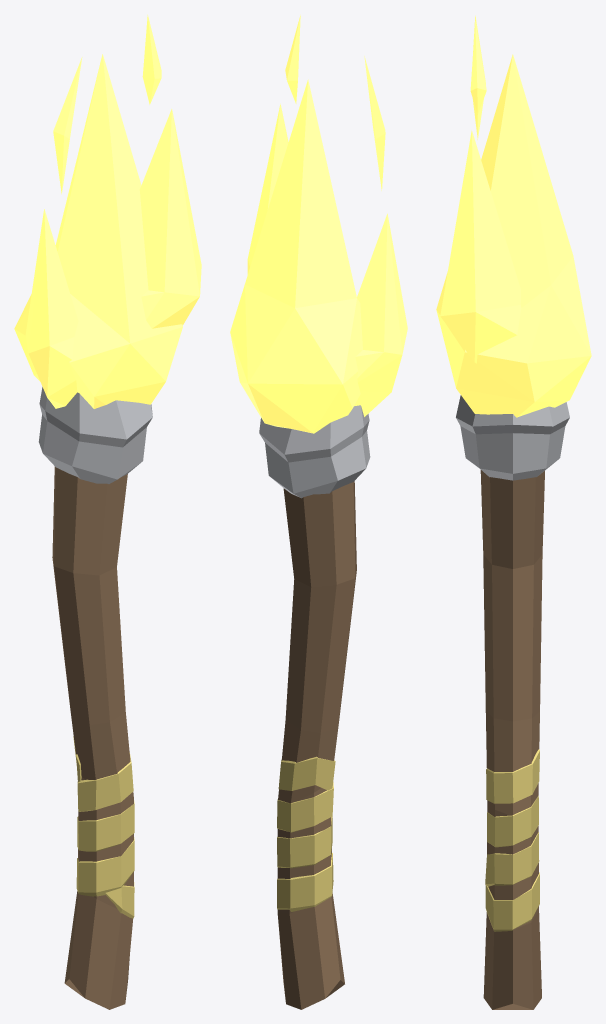
The model's file is woodentorch_fire.glb.
3 views of the same model, side by side, from view 1: azimuth 30°, elevation 25°; view 2: azimuth 150°, elevation 25°; view 3: azimuth 270°, elevation 25° (orthographic). The views are drawn at different scales.
Parts seen in each view (by area): view 1: WoodenTorch_Fire; view 2: WoodenTorch_Fire; view 3: WoodenTorch_Fire.
Part boxes in pixels (x1,y1,x2,y2): WoodenTorch_Fire: (14,14,201,1009); WoodenTorch_Fire: (230,15,407,1009); WoodenTorch_Fire: (436,15,591,1009).
Bounding box in the file's own units: 0.6209 × 3.55 × 0.501.
